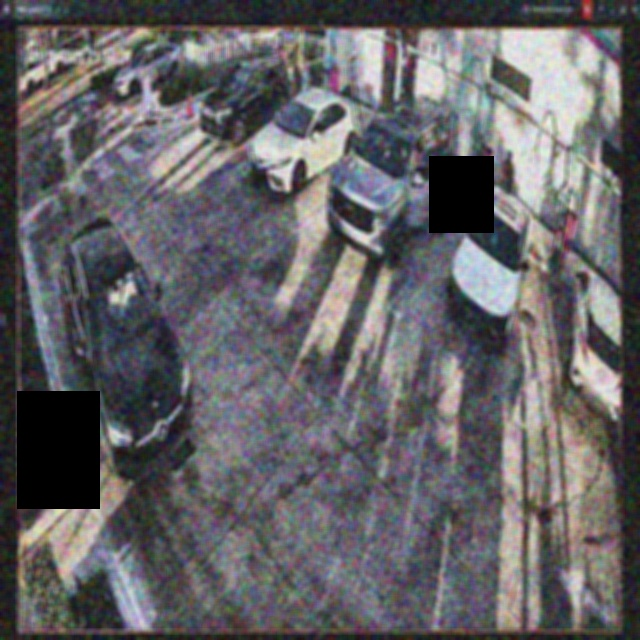Car: (60, 212, 192, 486), (325, 98, 453, 264), (448, 184, 532, 345), (248, 90, 359, 192), (201, 58, 291, 146)
